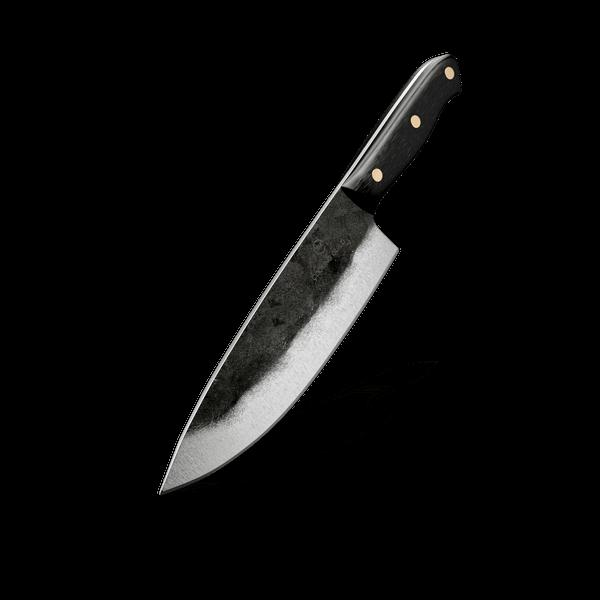Knife: (156, 51, 462, 495)
